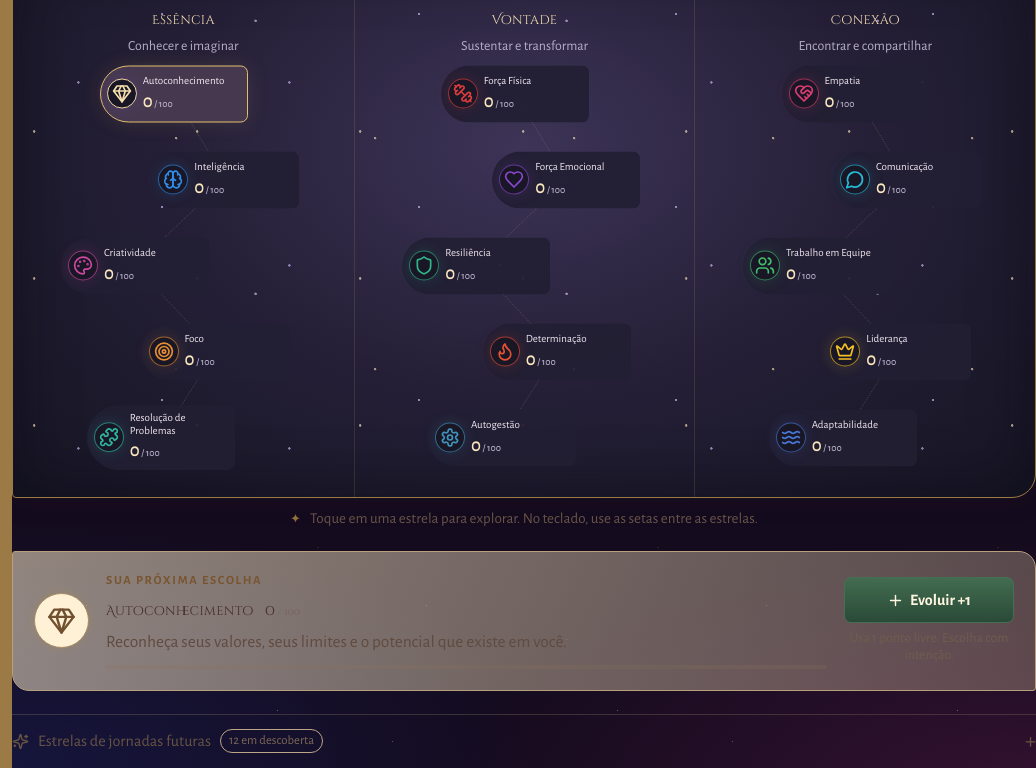
Test case: Acervo e ficha do herói › distribui os dois pontos disponíveis individualmente e impede gasto adicional
The width and height of the screenshot is (1036, 768).
(page scrolled)
Click the button with aria-label "Aumentar Autoconhecimento em 1 ponto" at (929, 600), box [844,577,1014,623]
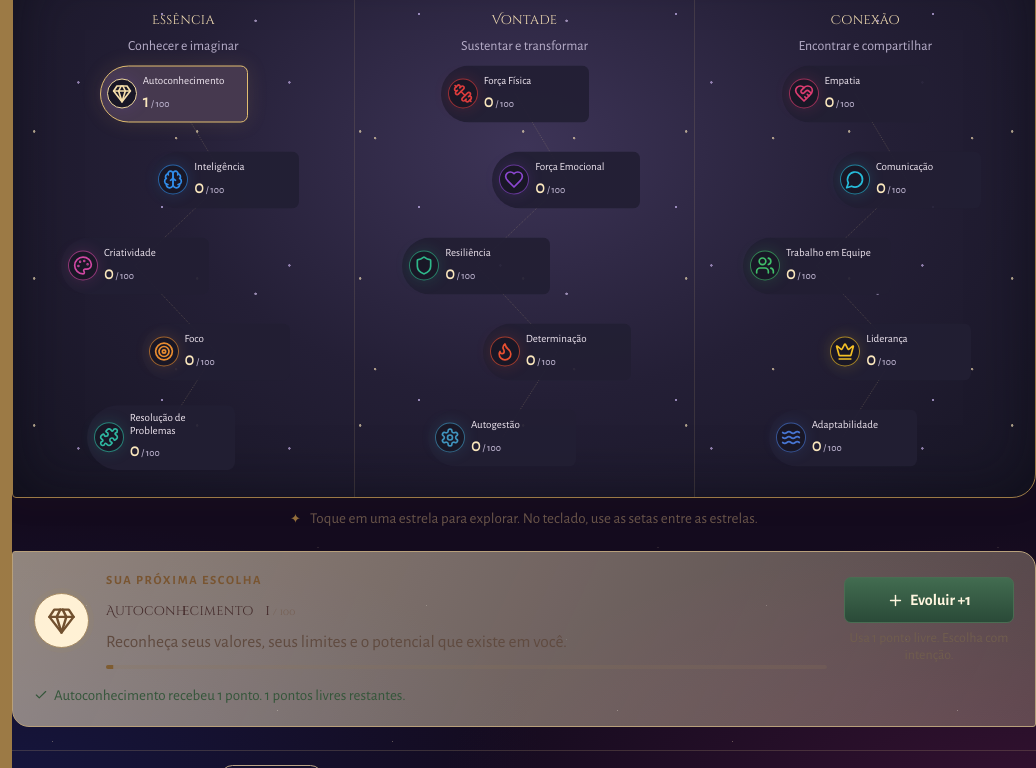
Click the button with aria-label "Aumentar Autoconhecimento em 1 ponto" at (929, 600), box [844,577,1014,623]
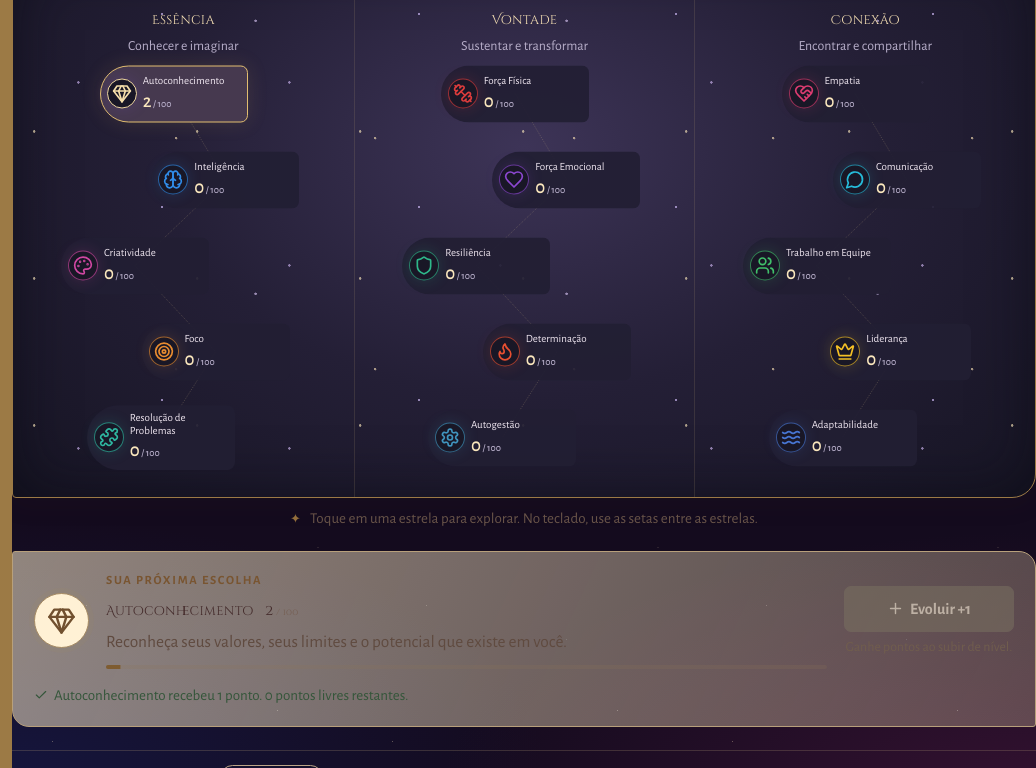
Result: the button with aria-label "Aumentar Autoconhecimento em 1 ponto" is disabled at [844,586,1014,632]
